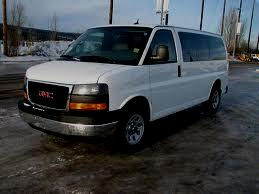GMC: (35, 89, 59, 102)
